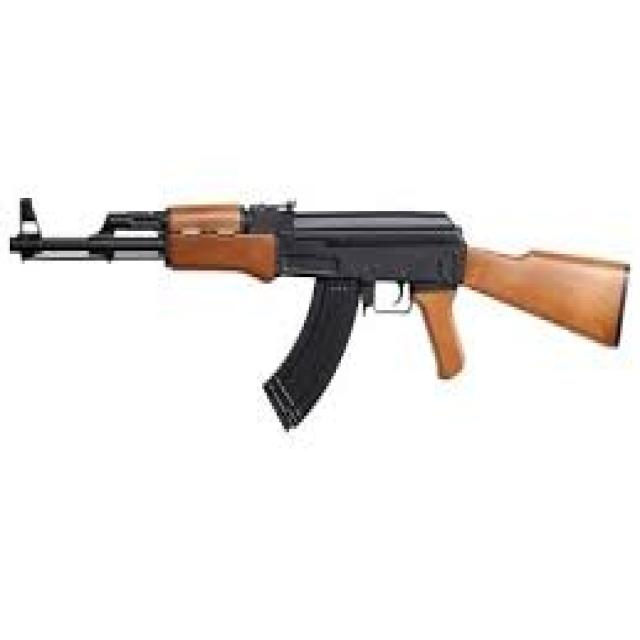AK-47 Gun: (12, 122, 628, 434)
